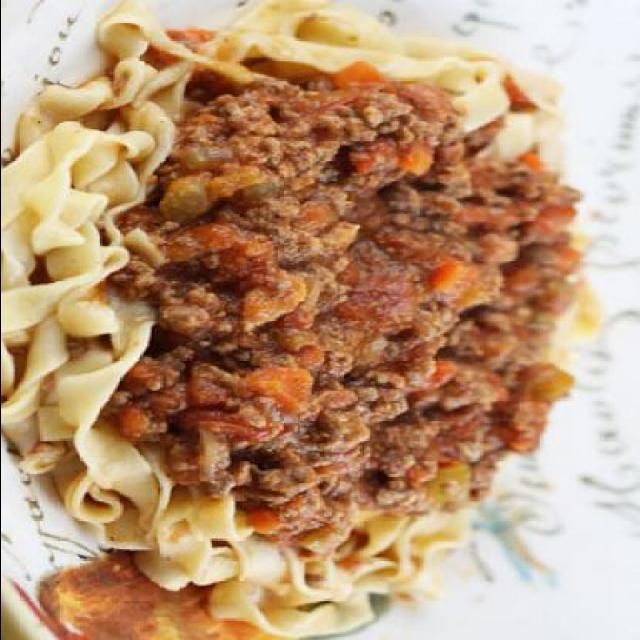Pasta al ragu: (54, 33, 594, 629)
